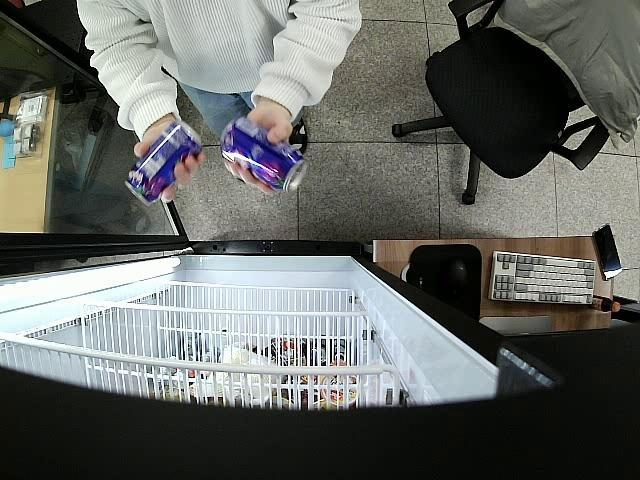14_welchsGrape: (122, 117, 202, 208), (218, 116, 308, 195)
